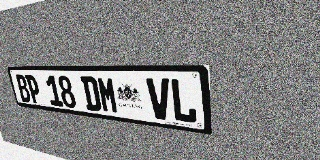1: (44, 75, 63, 107)
8: (57, 75, 77, 108)
B: (15, 74, 32, 103)
D: (80, 76, 102, 112)
L: (170, 78, 198, 124)
M: (96, 76, 119, 114)
P: (25, 75, 43, 104)
V: (146, 78, 172, 121)
